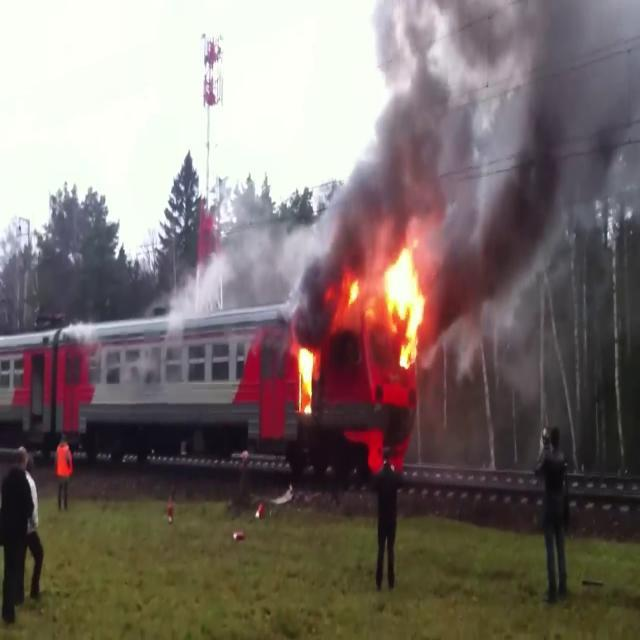Fire: (372, 235, 430, 367), (290, 337, 322, 414)
Smoke: (309, 0, 640, 340), (162, 194, 298, 330)
